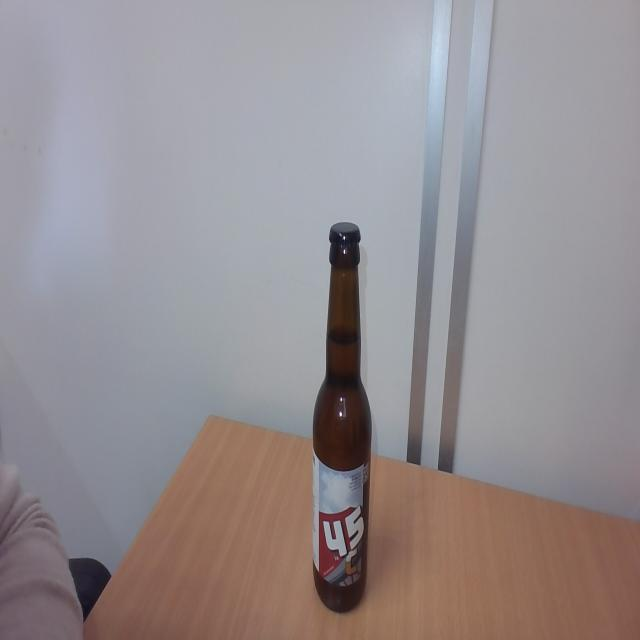Bottle: (312, 251, 370, 613)
Cap: (329, 219, 362, 249)
Label: (313, 458, 369, 586)
